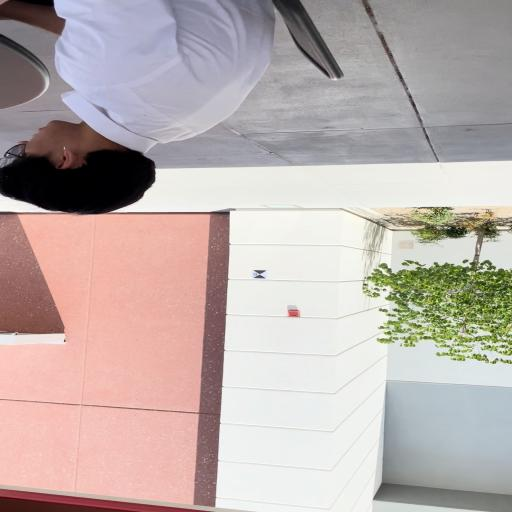target6: (252, 270, 266, 279)
